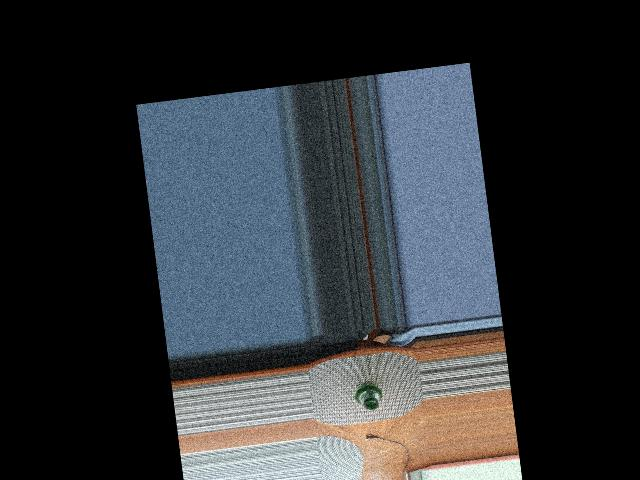beer: (354, 381, 382, 411)
